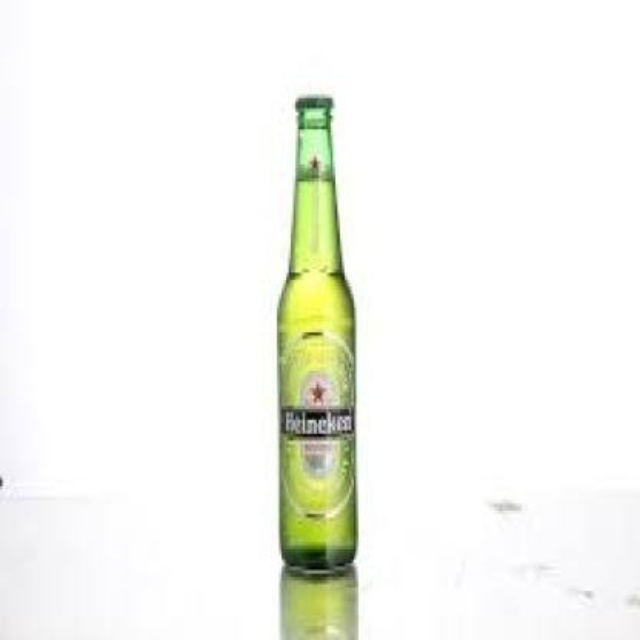trash: (277, 97, 355, 566)
